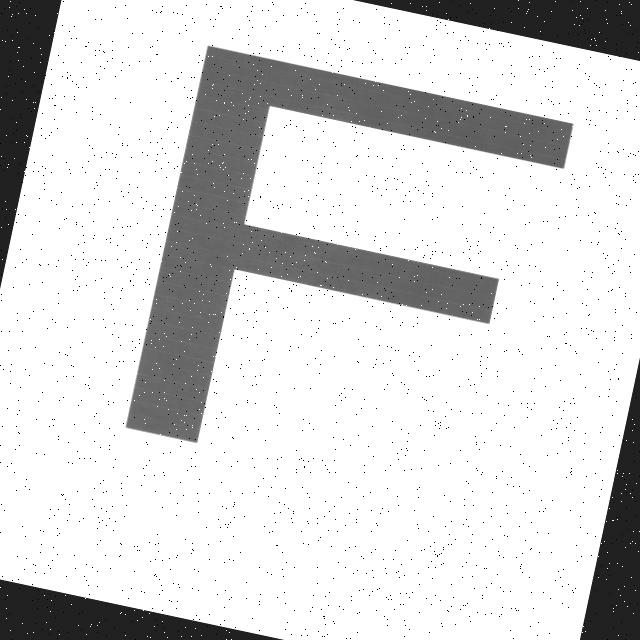f: (91, 16, 620, 534)
